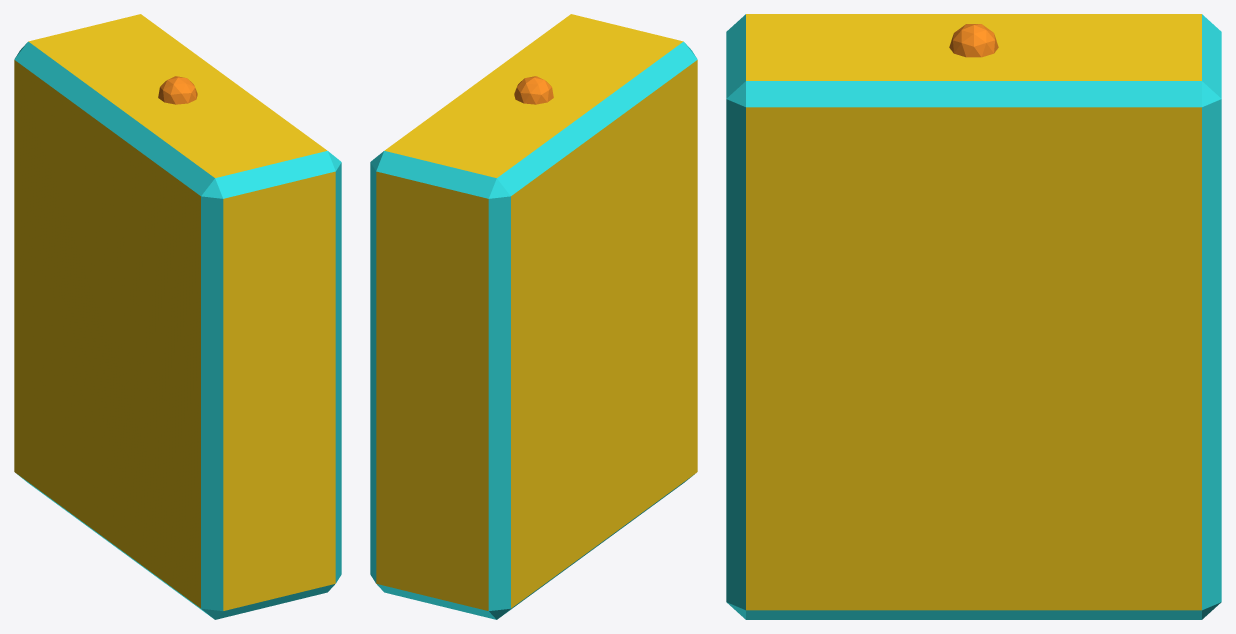
File: Breaker_Box_No_Stand.fbx
3 renders of one model, left to right at view 1: azimuth 30°, elevation 25°; view 2: azimuth 150°, elevation 25°; view 3: azimuth 270°, elevation 25°, orthographic. The views are drawn at different scales.
Visible parts, largest first — view 1: Breaker_Box, Breaker_Door, Icosphere; view 2: Breaker_Box, Breaker_Door, Icosphere; view 3: Breaker_Door, Breaker_Box, Icosphere.
Part boxes in pixels (x1,y1,x2,y2): Breaker_Box: (14, 14, 335, 619); Breaker_Door: (328, 151, 341, 583); Icosphere: (158, 76, 197, 104); Breaker_Box: (376, 14, 697, 619); Breaker_Door: (370, 151, 383, 583); Icosphere: (514, 76, 553, 104); Breaker_Door: (726, 81, 1221, 619); Breaker_Box: (726, 14, 1221, 98); Icosphere: (949, 24, 998, 57).
Size of the model in its own units: 40 by 125 by 100.
